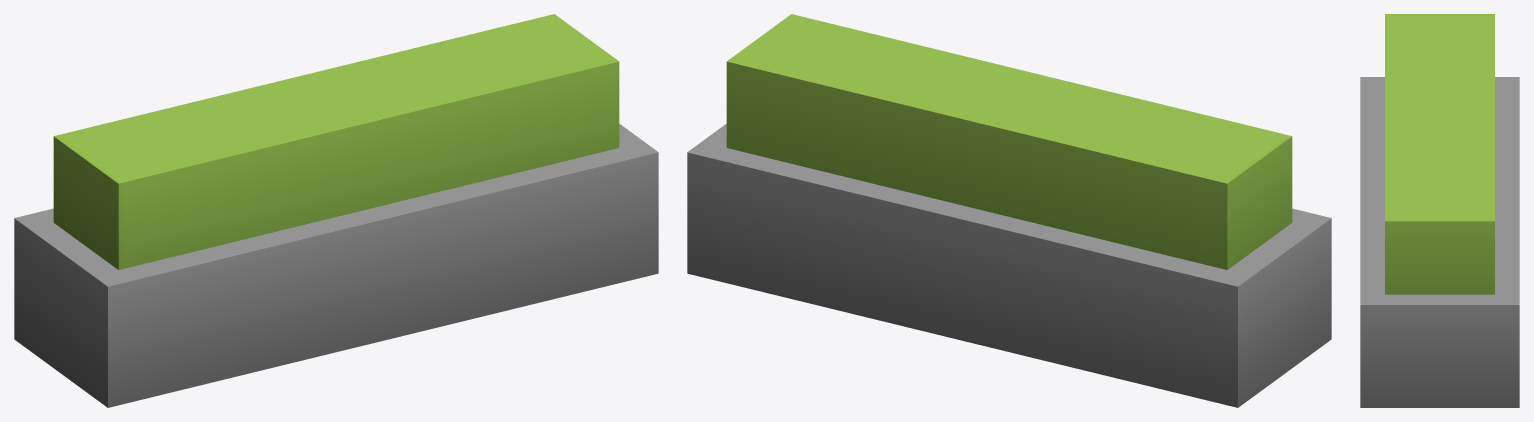
The model's file is plants 4.fbx.
3 views of the same model, side by side, from view 1: azimuth 30°, elevation 25°; view 2: azimuth 150°, elevation 25°; view 3: azimuth 270°, elevation 25° (orthographic). The views are drawn at different scales.
Visible parts, largest first — view 1: plants_4; view 2: plants_4; view 3: plants_4.
Boxes of the visible parts, <box> form: plants_4: <box>14,14,658,407</box>; plants_4: <box>687,14,1331,407</box>; plants_4: <box>1360,14,1519,407</box>.
Size of the model in its own units: 169 by 60.89 by 49.88.
1 material, 1 textured.
